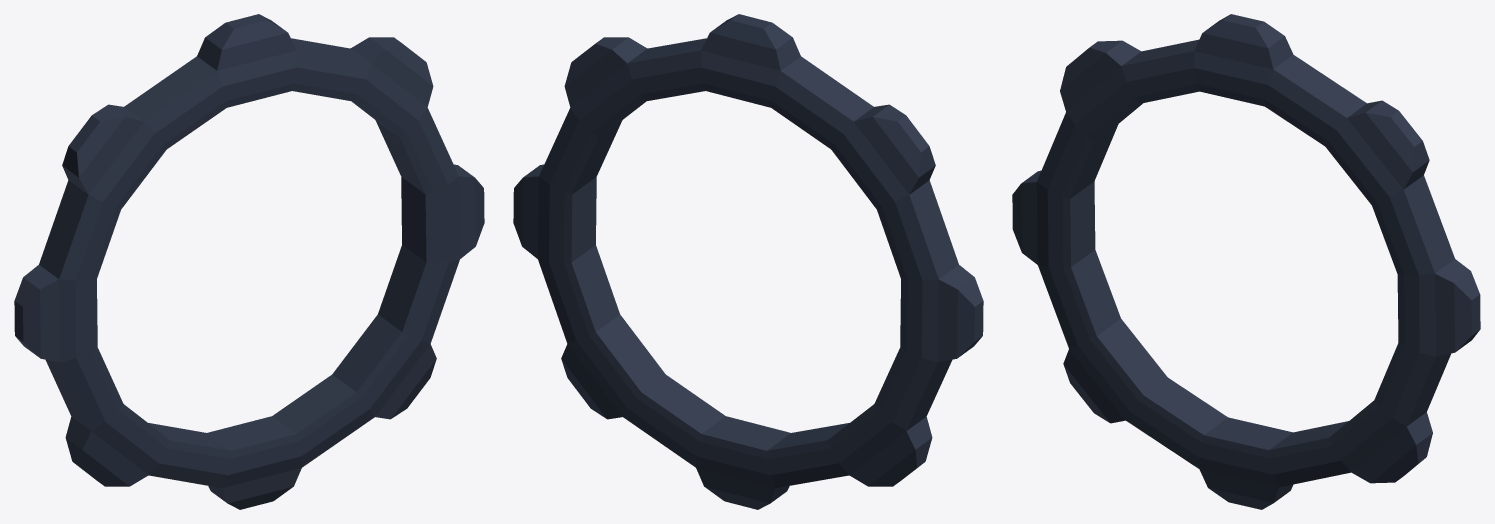
The model's file is portalv2.fbx.
3 renders of one model, left to right at view 1: azimuth 30°, elevation 25°; view 2: azimuth 150°, elevation 25°; view 3: azimuth 330°, elevation 25°, orthographic.
Visible parts, largest first — view 1: Circle.001; view 2: Circle.001; view 3: Circle.001.
Boxes of the visible parts, x1,y1,x2,y2 form: Circle.001: (14, 14, 484, 509); Circle.001: (513, 14, 983, 509); Circle.001: (1012, 14, 1480, 509).
Bounding box in the file's own units: 271 × 271 × 25.97.
